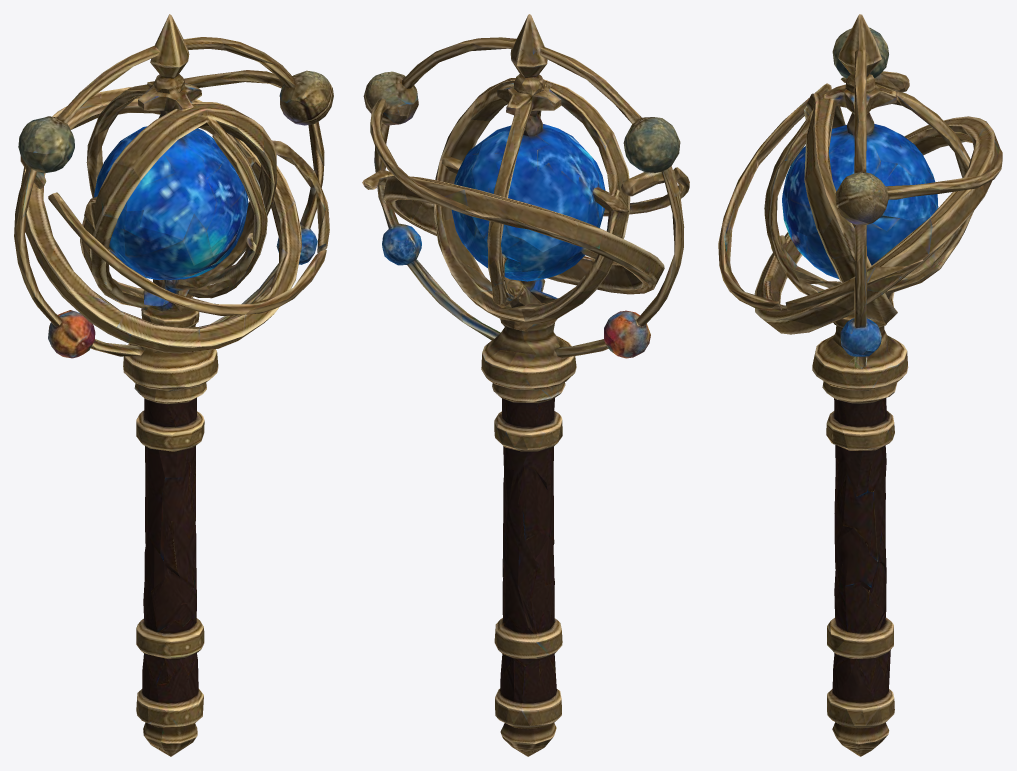
The model's file is orrery_staff.glb.
3 views of the same model, side by side, from view 1: azimuth 30°, elevation 25°; view 2: azimuth 150°, elevation 25°; view 3: azimuth 270°, elevation 25° (orthographic).
Bounding box in the file's own units: 0.9582 × 2.15 × 0.749.
1 material, 1 textured.
